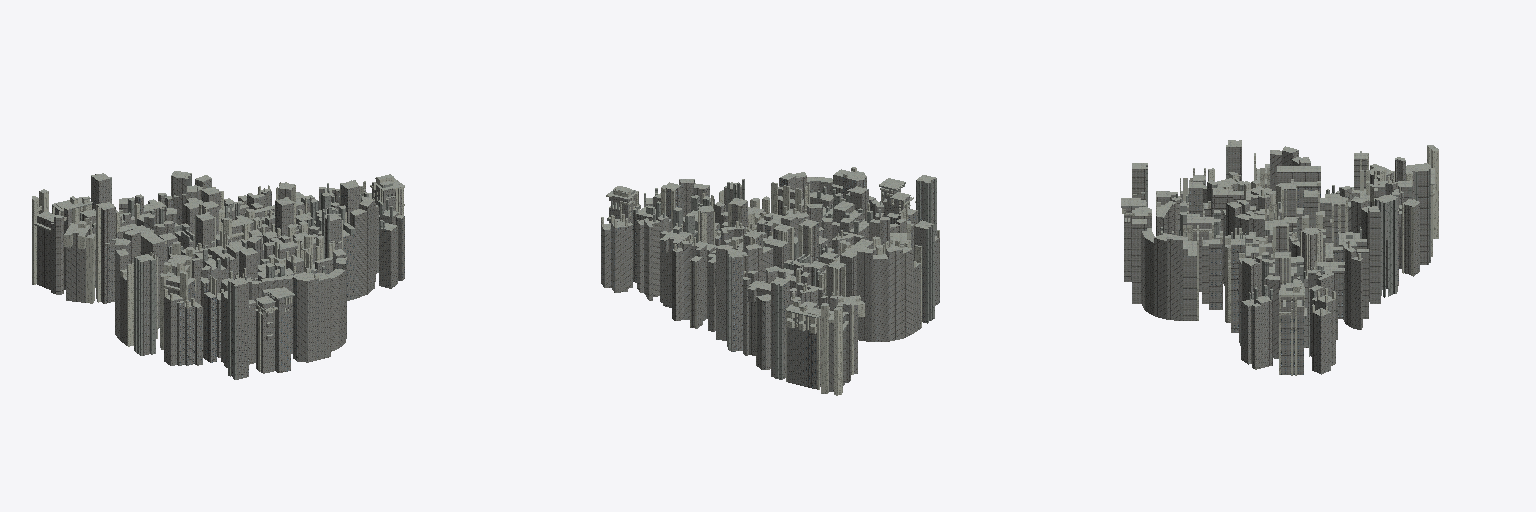
The picture shows the model from 3 angles: view 1: azimuth 30°, elevation 25°; view 2: azimuth 150°, elevation 25°; view 3: azimuth 270°, elevation 25°; orthographic projection.
Visible parts, largest first — view 1: 9201; view 2: 9201; view 3: 9201.
Part boxes in pixels (x1,y1,x2,y2): 9201: (32,171,404,379); 9201: (601,167,939,395); 9201: (1121,140,1438,375).
Bounding box in the file's own units: 2542 × 768 × 2353.
Materials: 9 (9 with a texture image).